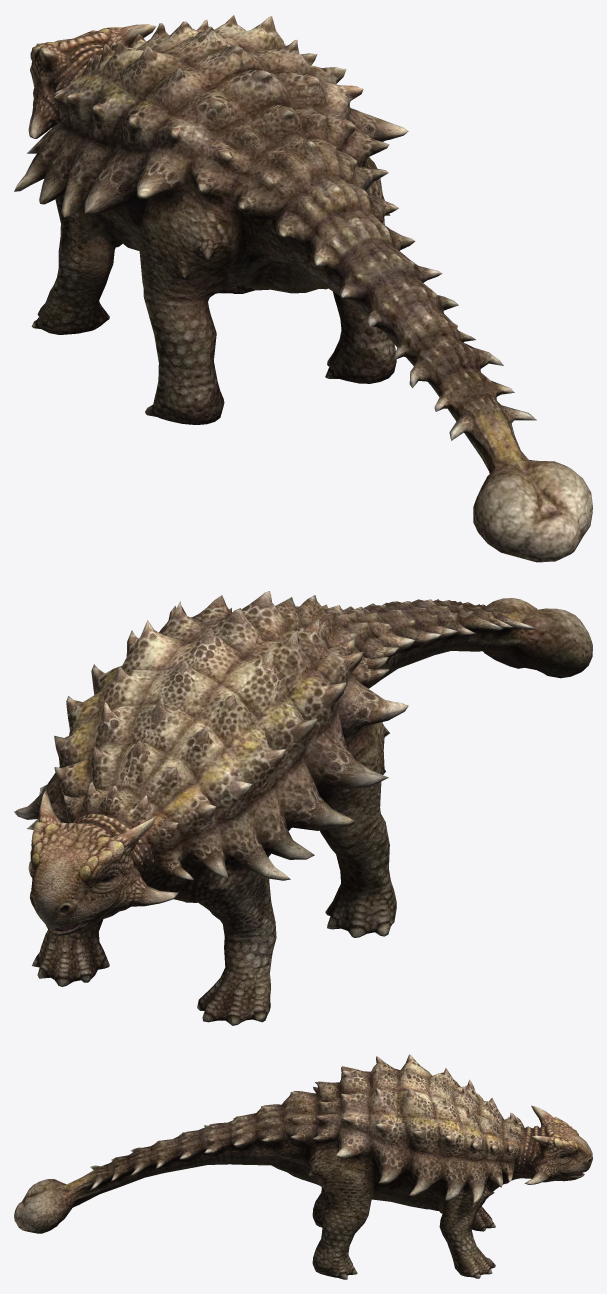
Rendered from plateback.glb.
The picture shows the model from 3 angles, top to bottom: view 1: azimuth 30°, elevation 25°; view 2: azimuth 150°, elevation 25°; view 3: azimuth 270°, elevation 25°; orthographic projection. The views are drawn at different scales.
Bounding box in the file's own units: 0.0367 × 0.0369 × 0.1078.
1 material, 1 textured.
